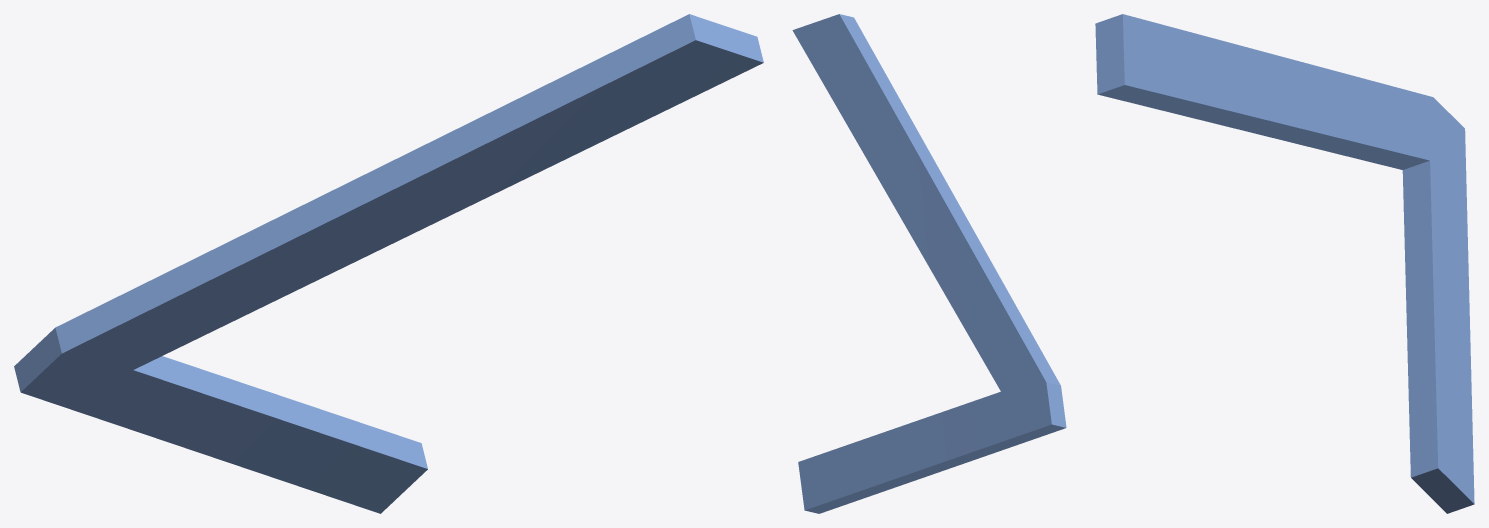
Rendered from New_Number_7.gltf.
3 renders of one model, left to right at view 1: azimuth 30°, elevation 25°; view 2: azimuth 150°, elevation 25°; view 3: azimuth 270°, elevation 25°, orthographic. The views are drawn at different scales.
Parts seen in each view (by area): view 1: Part 43; view 2: Part 43; view 3: Part 43.
Boxes of the visible parts, box(x1,y1,x2,y2) form: Part 43: box(14, 14, 763, 513); Part 43: box(792, 14, 1066, 513); Part 43: box(1095, 14, 1474, 513).
Bounding box in the file's own units: 0.00502 × 0.00493 × 0.003.
